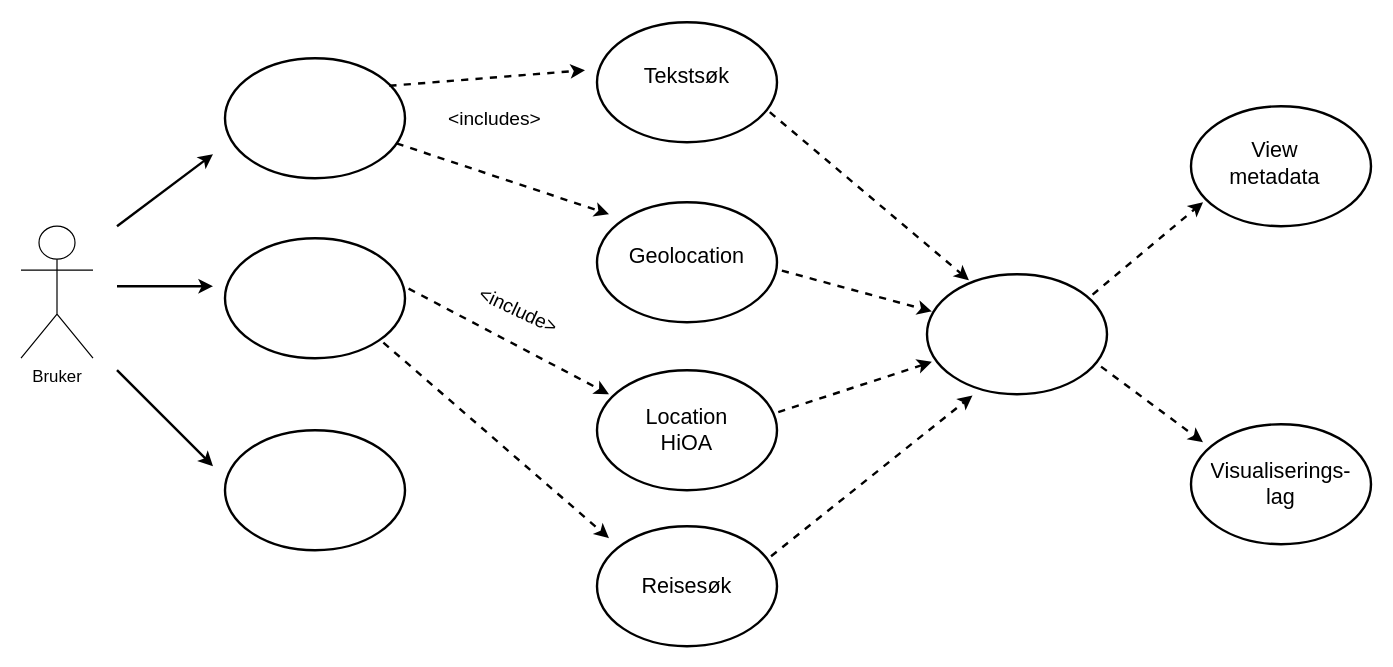
Some shapes in this 1393 by 667 pixel diagram are drawn without their labels. The box of each missing label's shape, as (x1, y1, x2, y2) in pixels:
Hva vil du spise: (223, 428, 406, 551)
Hvor er jeg: (223, 56, 406, 179)
Hvor vil du reise: (223, 236, 406, 359)
View: (925, 272, 1108, 395)
